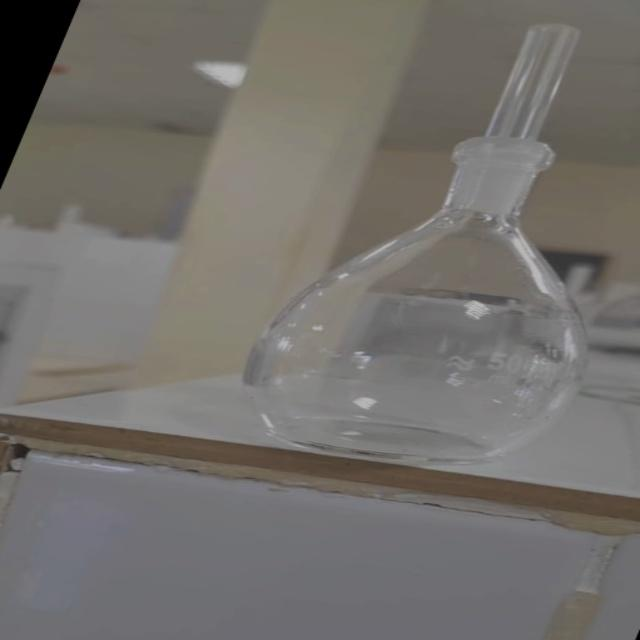Density Bottle for Liquids: (197, 4, 640, 474)
